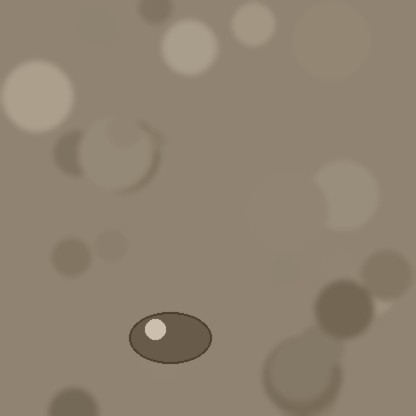gota: (129, 314, 211, 368)
